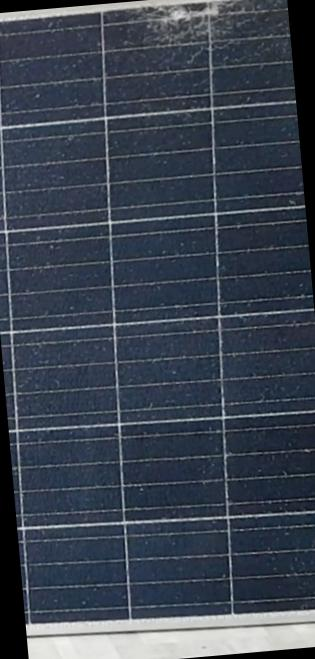Crack: (135, 0, 266, 60)
